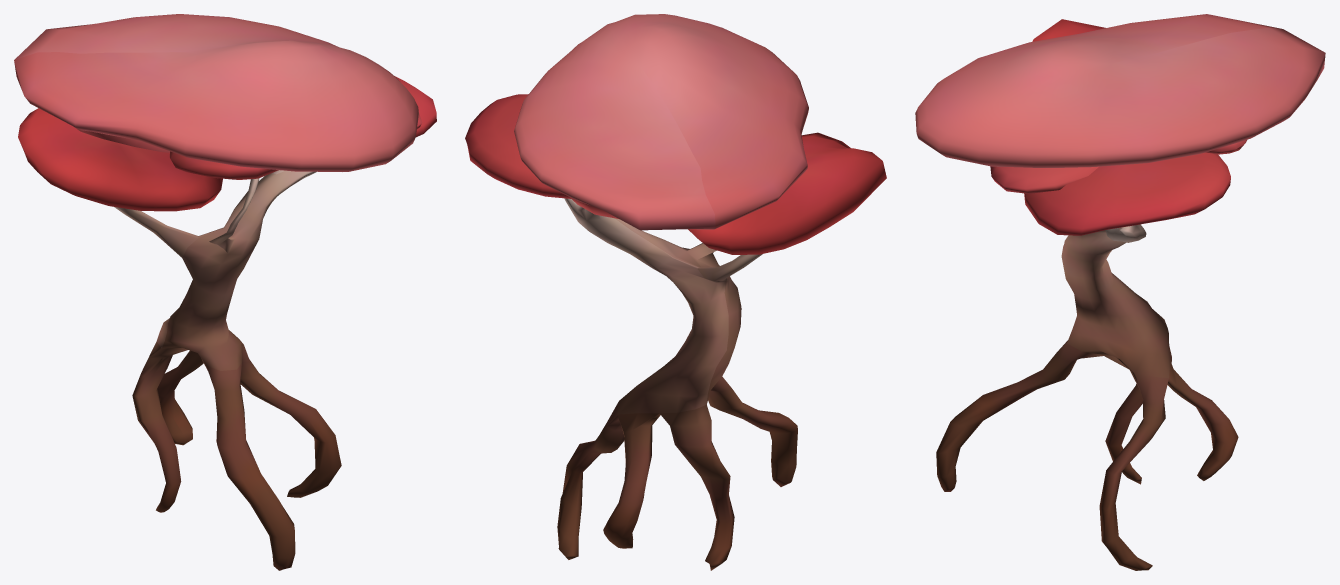
File: Tree3.fbx
The picture shows the model from 3 angles, left to right: view 1: azimuth 30°, elevation 25°; view 2: azimuth 150°, elevation 25°; view 3: azimuth 270°, elevation 25°; orthographic projection. The views are drawn at different scales.
Parts seen in each view (by area): view 1: Tree3; view 2: Tree3; view 3: Tree3.
Boxes of the visible parts, x1=… form: Tree3: x1=14, y1=14, x2=436, y2=570; Tree3: x1=465, y1=14, x2=886, y2=570; Tree3: x1=915, y1=14, x2=1325, y2=570.
Bounding box in the file's own units: 1024 × 1282 × 964.
1 material, 1 textured.
